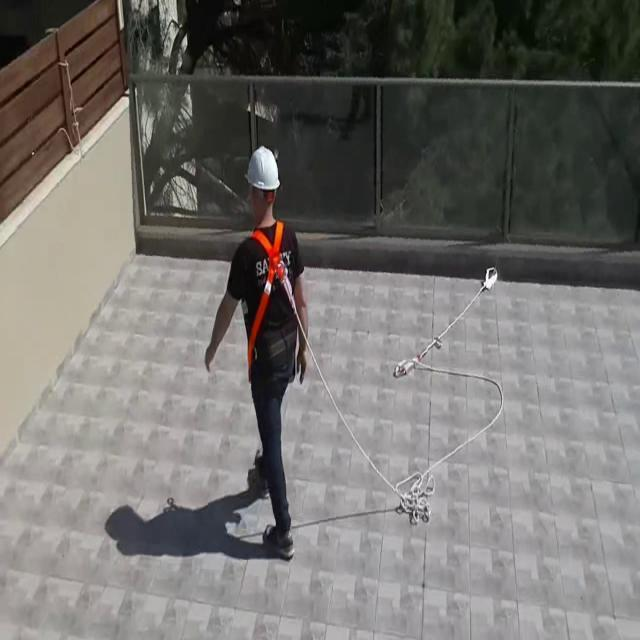Harness: (308, 268, 505, 526), (248, 221, 296, 370)
